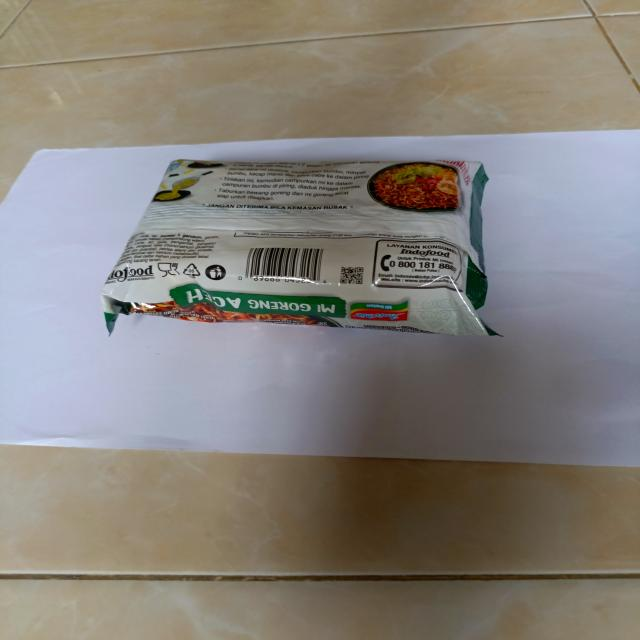gery-salut-coconut: (98, 158, 506, 340)
